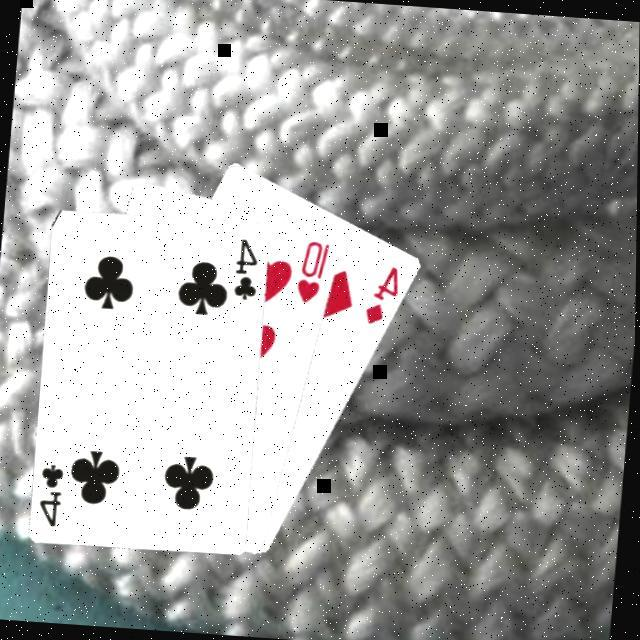10H: (295, 236, 337, 306)
4C: (36, 458, 72, 528), (232, 232, 267, 302)
4D: (363, 260, 408, 328)
